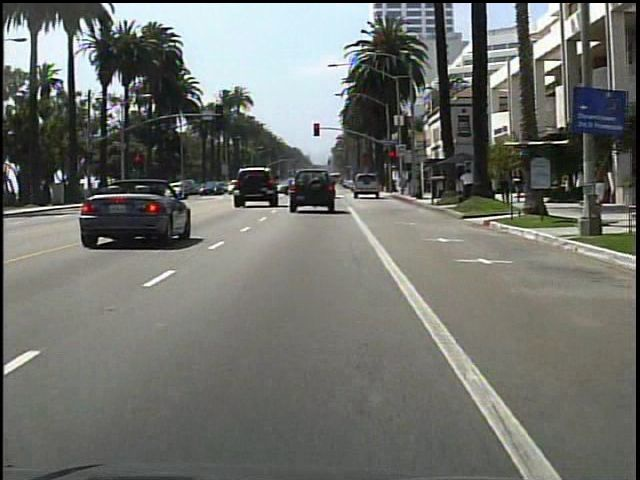person: (458, 166, 479, 204), (496, 165, 511, 208)
